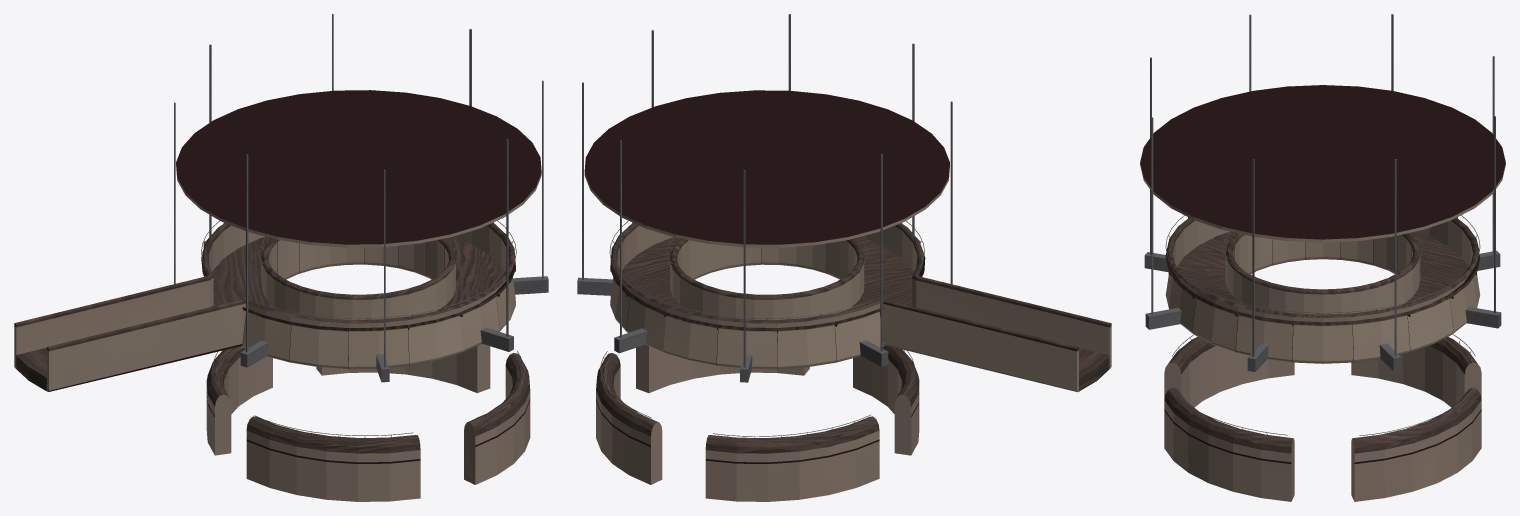
The model's file is CenterCatWalk.glb.
3 renders of one model, left to right at view 1: azimuth 30°, elevation 25°; view 2: azimuth 150°, elevation 25°; view 3: azimuth 270°, elevation 25°, orthographic.
Parts seen in each view (by area): view 1: Cylinder.001, Cylinder.002, Cylinder, support beams; view 2: Cylinder.001, Cylinder.002, Cylinder, support beams; view 3: Cylinder.002, Cylinder.001, Cylinder, support beams, OuterMiddleRailing.001.
Part boxes in pixels (x1,y1,x2,y2): Cylinder.001: (14,223,515,391); Cylinder.002: (176,90,541,247); Cylinder: (206,344,530,501); support beams: (174,14,548,382); Cylinder.001: (610,223,1111,392); Cylinder.002: (584,90,949,247); Cylinder: (596,344,919,501); support beams: (577,14,952,382); Cylinder.002: (1140,85,1505,242); Cylinder.001: (1165,217,1480,363); Cylinder: (1164,336,1481,501); support beams: (1144,14,1501,371); OuterMiddleRailing.001: (1165,215,1480,313).
Size of the model in its own units: 11.13 by 7.48 by 7.23.
Materials: 4 (4 with a texture image).
